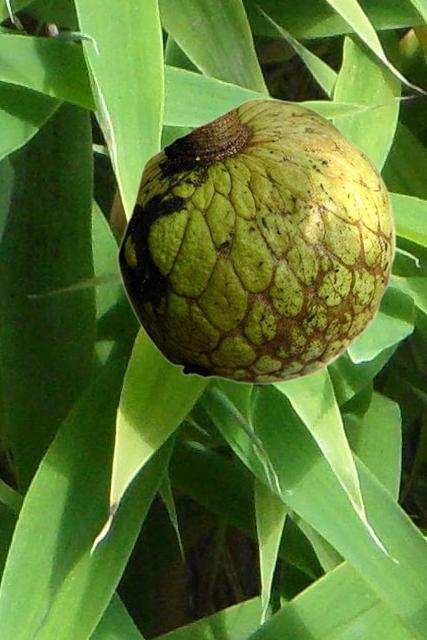atis: (116, 97, 395, 384)
